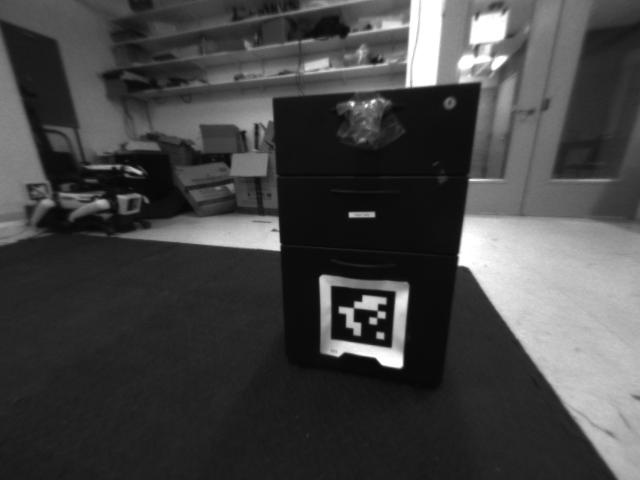door_handle: (506, 104, 537, 126)
drawer: (324, 92, 404, 156)
